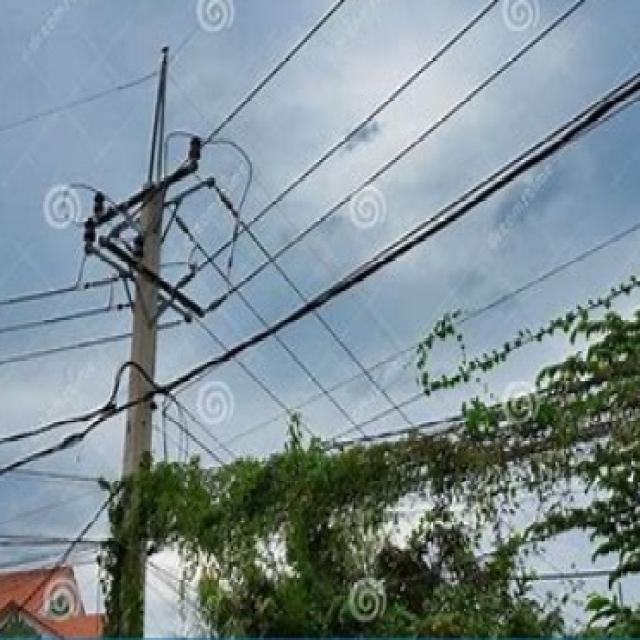critical vegetation: (127, 411, 632, 566)
